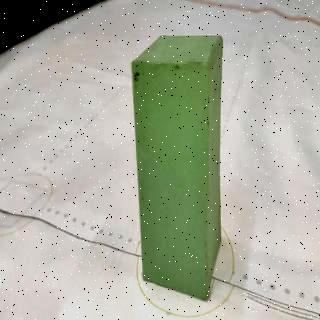greenbox: (132, 33, 222, 300)
